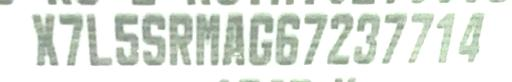letter: (456, 8, 494, 64), (406, 8, 440, 64), (380, 5, 412, 61), (430, 9, 462, 65), (112, 10, 146, 62), (352, 9, 384, 63), (246, 10, 276, 66), (300, 10, 332, 62), (192, 12, 224, 64), (327, 8, 357, 62), (273, 10, 303, 64), (166, 10, 196, 64), (56, 13, 84, 67), (32, 10, 58, 68), (84, 13, 112, 65), (220, 10, 246, 64), (140, 12, 168, 62)
